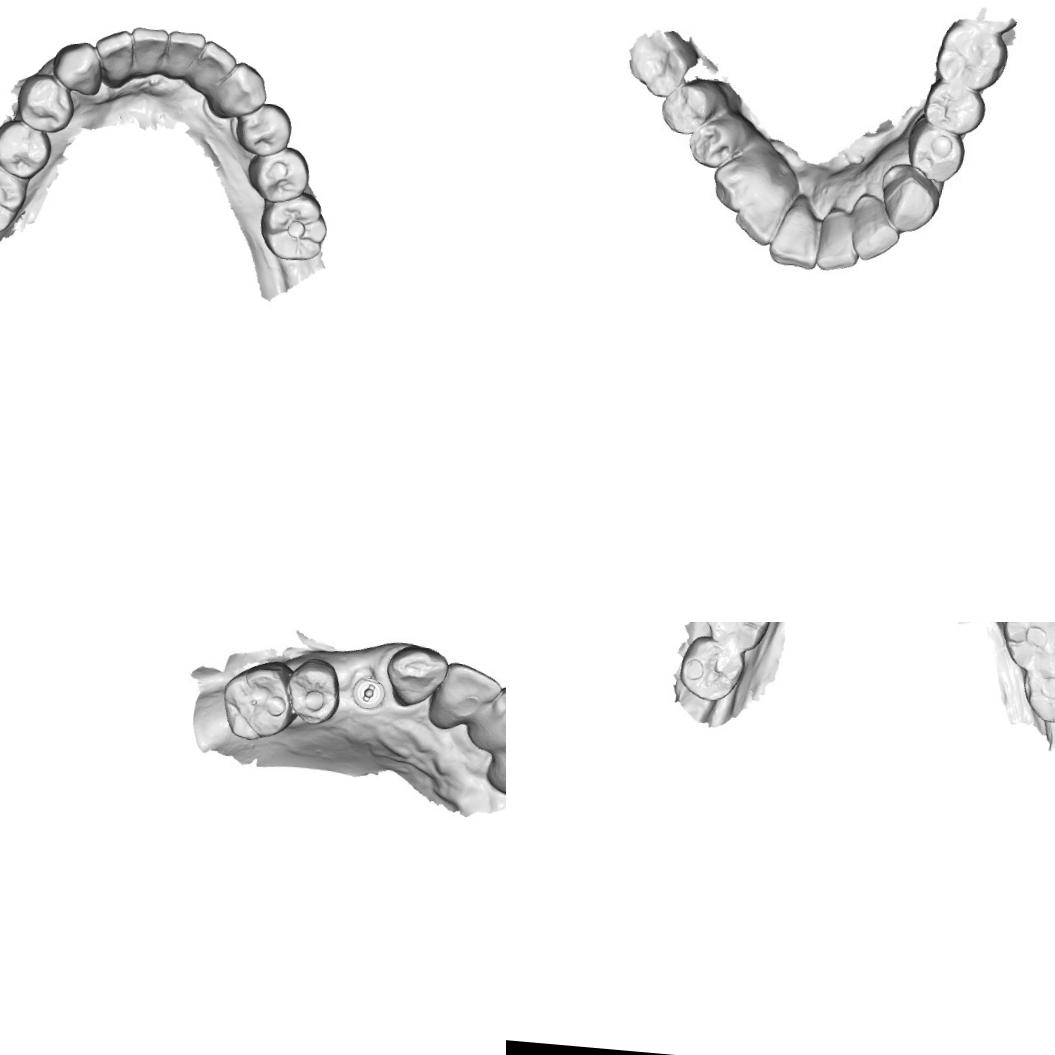canine: (384, 639, 450, 711), (205, 57, 271, 123), (879, 165, 944, 229), (710, 153, 766, 212), (50, 38, 104, 98)
implant_minus: (346, 667, 388, 712)
incisor: (426, 658, 501, 744), (768, 198, 826, 268), (733, 179, 792, 244), (849, 194, 904, 260), (814, 205, 864, 274), (92, 26, 134, 89), (192, 36, 239, 92), (162, 24, 205, 82), (126, 22, 170, 78), (475, 684, 506, 752)
molar: (214, 659, 296, 744), (254, 188, 330, 264), (620, 25, 697, 97), (674, 632, 748, 706), (933, 15, 1005, 90), (998, 622, 1055, 673), (1016, 656, 1055, 729), (699, 622, 776, 655), (0, 155, 29, 238)
premolar: (12, 68, 80, 135), (244, 144, 313, 205), (229, 98, 296, 159), (0, 114, 57, 182), (287, 657, 342, 724), (660, 78, 720, 136), (924, 78, 986, 133), (910, 122, 966, 182), (686, 118, 742, 170)
